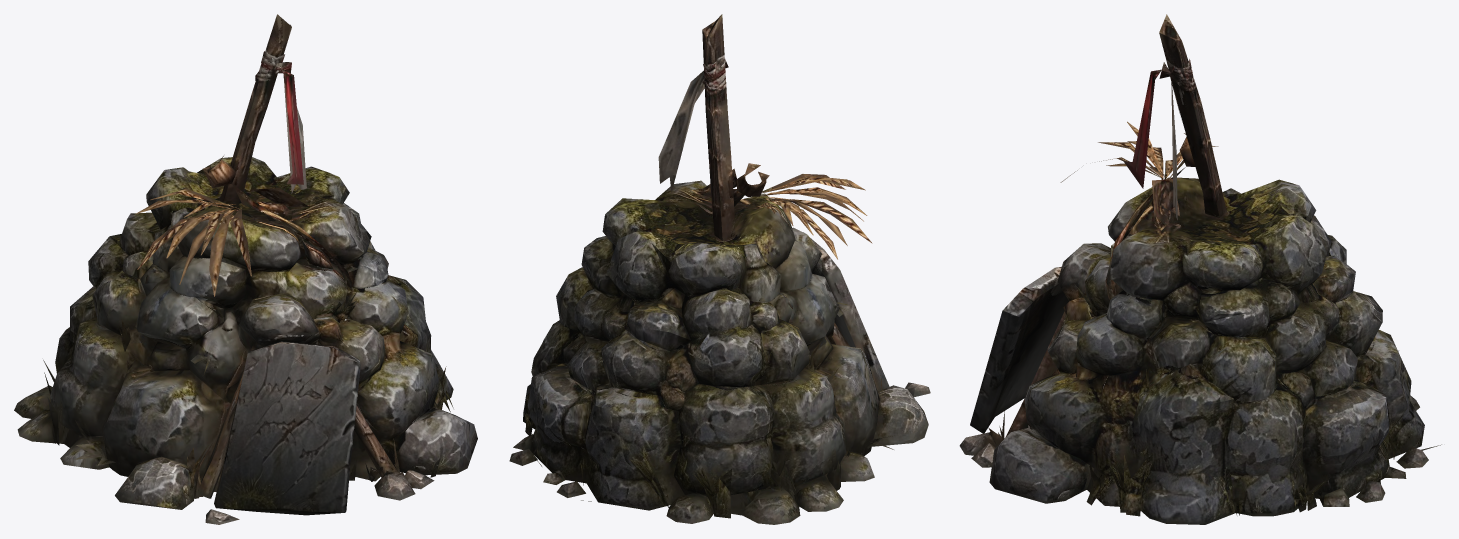
File: act1_kit_v1_harvester_cairn.glb
3 views of the same model, side by side, from view 1: azimuth 30°, elevation 25°; view 2: azimuth 150°, elevation 25°; view 3: azimuth 270°, elevation 25° (orthographic). The views are drawn at different scales.
Visible parts, largest first — view 1: A22_4_harvester_cairn; view 2: A22_4_harvester_cairn; view 3: A22_4_harvester_cairn.
Part boxes in pixels (box(x1,y1,x2,y2)): A22_4_harvester_cairn: box(14, 14, 477, 524); A22_4_harvester_cairn: box(509, 14, 930, 524); A22_4_harvester_cairn: box(959, 14, 1441, 524).
Size of the model in its own units: 0.8983 by 0.9803 by 0.9998.
Materials: 1 (1 with a texture image).
